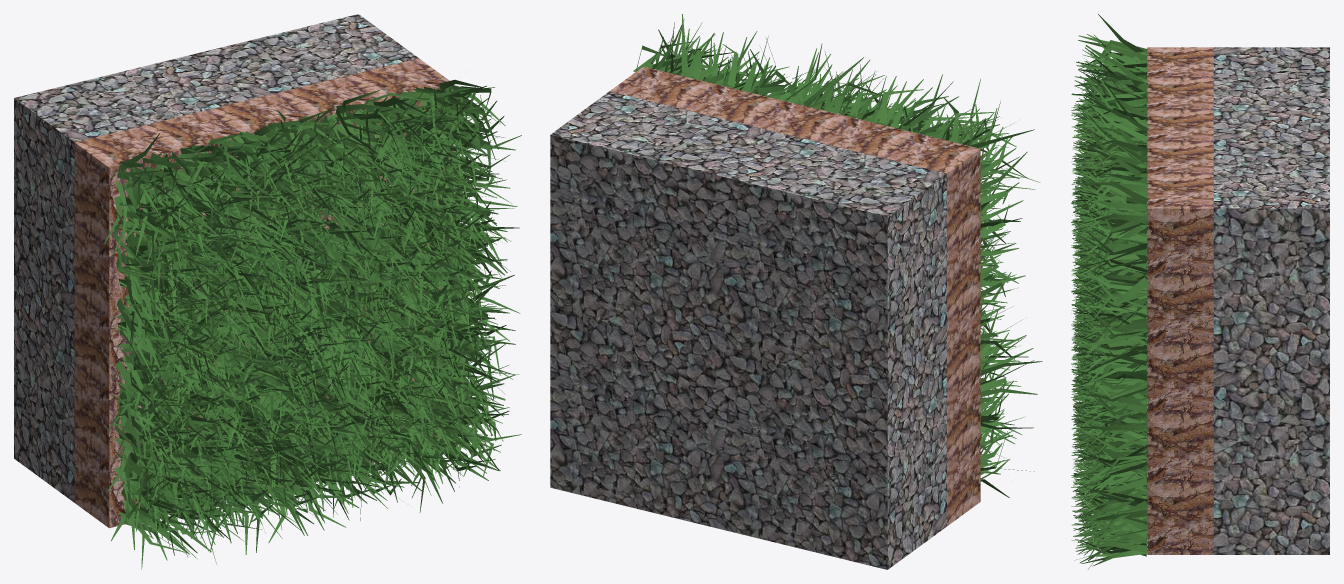
File: SMR_2LR.gltf
3 views of the same model, side by side, from view 1: azimuth 30°, elevation 25°; view 2: azimuth 150°, elevation 25°; view 3: azimuth 270°, elevation 25° (orthographic). The views are drawn at different scales.
Parts seen in each view (by area): view 1: Mesh_0; view 2: Mesh_0; view 3: Mesh_0.
Part boxes in pixels (<box>): Mesh_0: <box>14,14,521,569</box>; Mesh_0: <box>550,14,1042,569</box>; Mesh_0: <box>1071,14,1329,569</box>.
Size of the model in its own units: 1.39 by 1.41 by 0.7791.
Materials: 3 (2 with a texture image).
